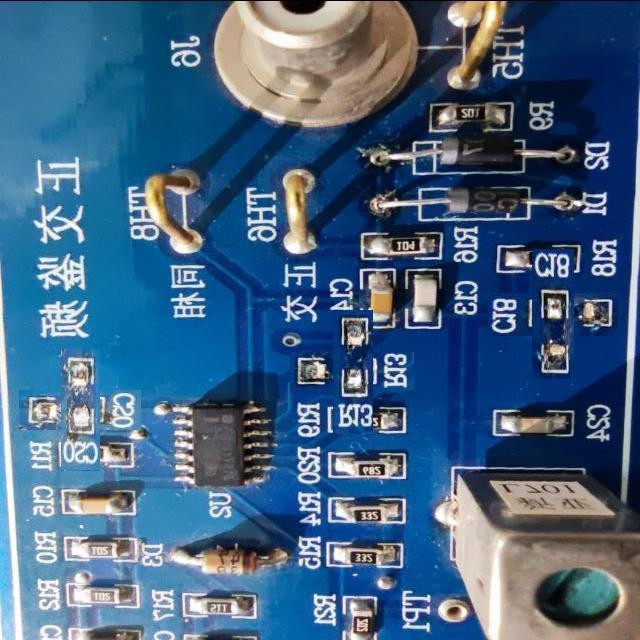miss_welding: (510, 271, 596, 358), (311, 331, 394, 414), (40, 369, 121, 451)
